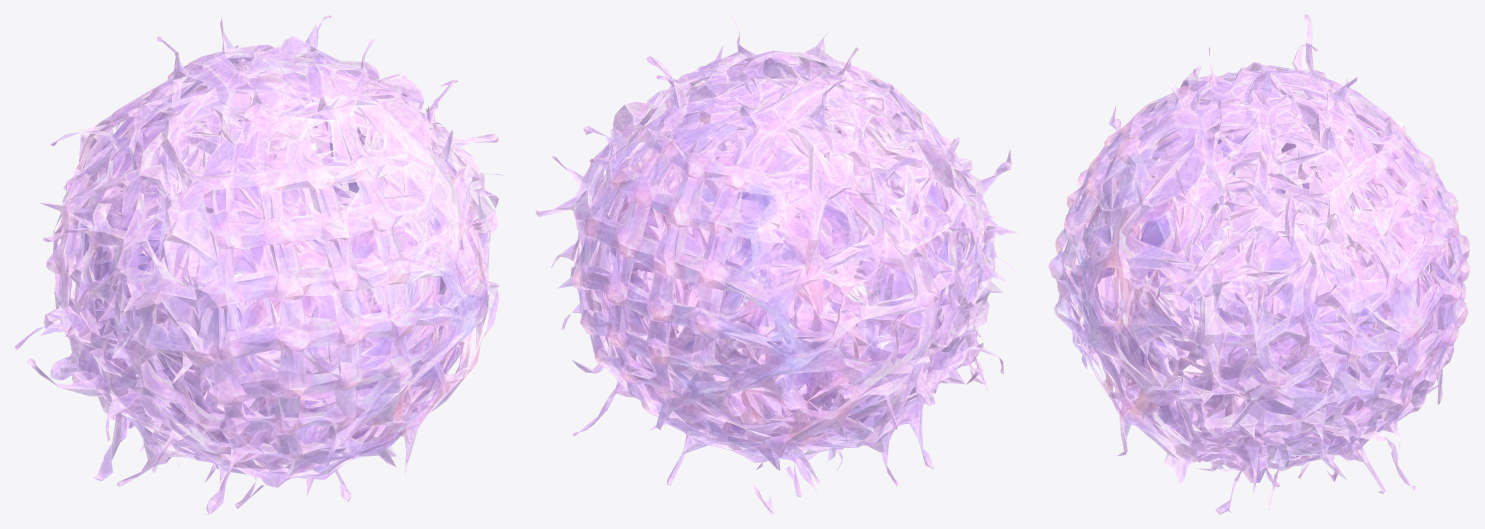
Rendered from cell11.glb.
3 renders of one model, left to right at view 1: azimuth 30°, elevation 25°; view 2: azimuth 150°, elevation 25°; view 3: azimuth 270°, elevation 25°, orthographic. The views are drawn at different scales.
Visible parts, largest first — view 1: Mesh_0; view 2: Mesh_0; view 3: Mesh_0.
Boxes of the visible parts, x1=… form: Mesh_0: x1=14, y1=14, x2=503, y2=514; Mesh_0: x1=535, y1=15, x2=1019, y2=514; Mesh_0: x1=1048, y1=14, x2=1470, y2=514.
Bounding box in the file's own units: 1.85 × 1.88 × 1.62.
Materials: 1 (1 with a texture image).
